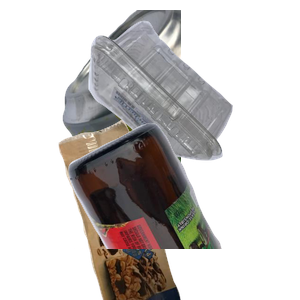glass: (66, 120, 300, 300)
metal: (60, 10, 300, 190)
plastic: (86, 18, 300, 171)
trash: (56, 120, 229, 300)
